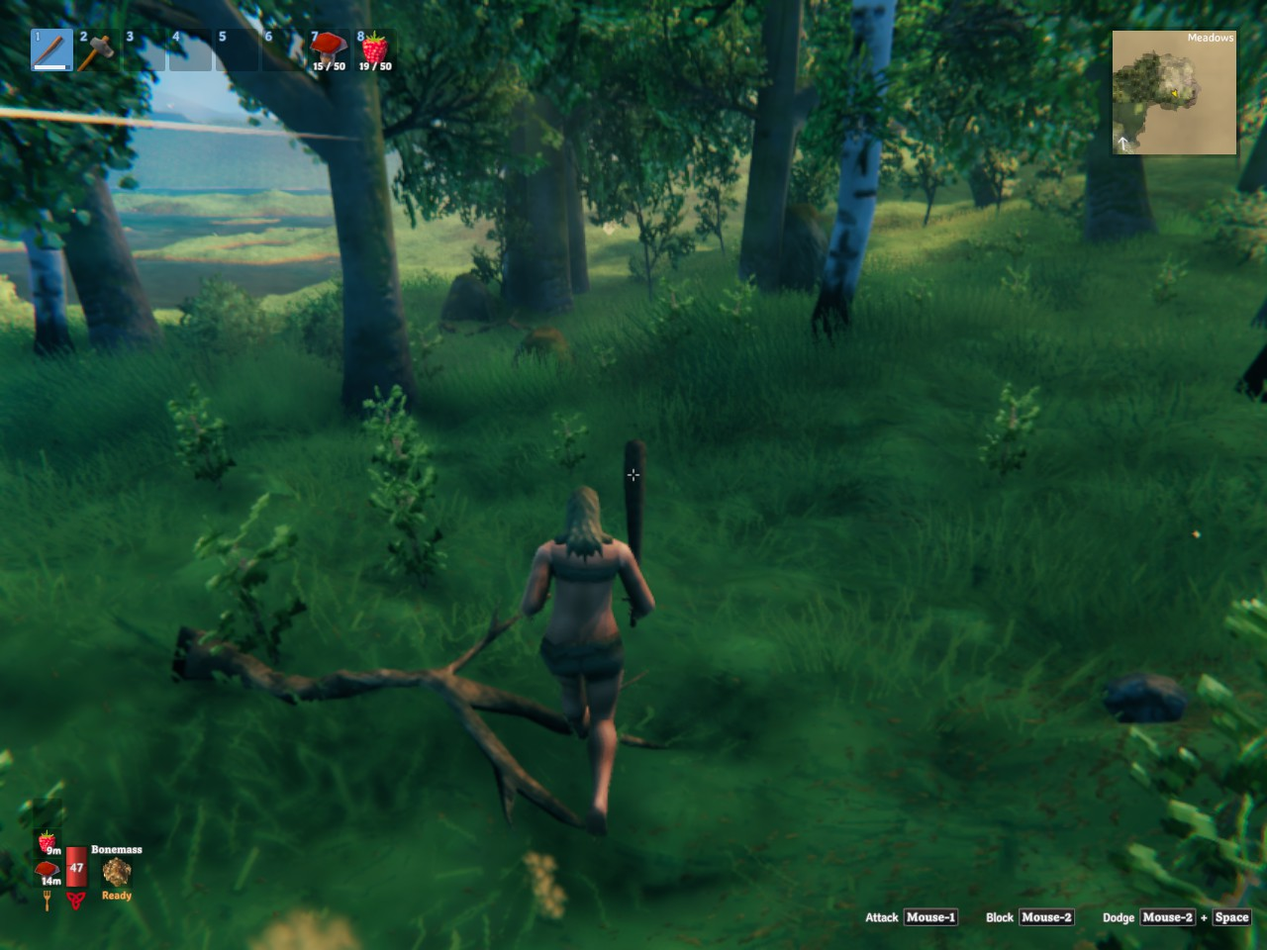Branch: (172, 612, 583, 827)
Stone: (1103, 674, 1187, 722)
